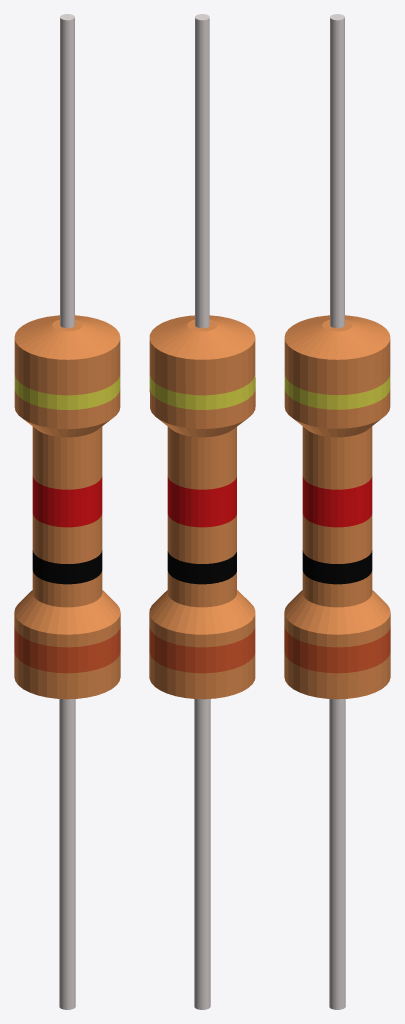
The model's file is Resistor.glb.
3 views of the same model, side by side, from view 1: azimuth 90°, elevation 25°; view 2: azimuth 150°, elevation 25°; view 3: azimuth 270°, elevation 25° (orthographic).
Parts seen in each view (by area): view 1: Resistor; view 2: Resistor; view 3: Resistor.
Part boxes in pixels (bbox=[...]): Resistor: bbox=[14, 14, 120, 1009]; Resistor: bbox=[149, 14, 255, 1009]; Resistor: bbox=[284, 14, 390, 1009].
Size of the model in its own units: 0.0427 by 0.4377 by 0.0426.
